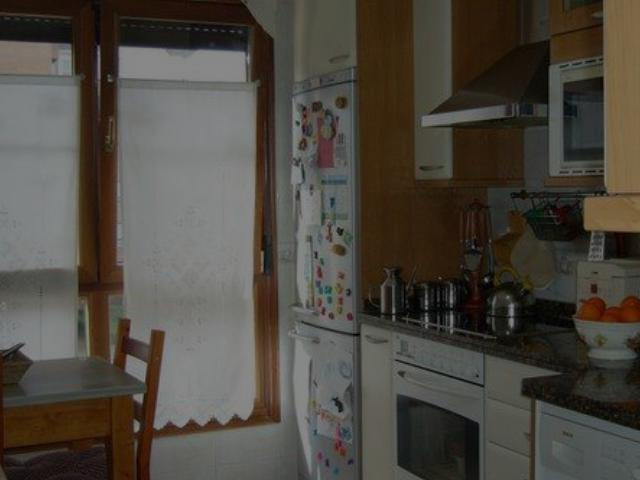Electrodomestico: (289, 89, 364, 480), (391, 337, 489, 480), (535, 402, 640, 480)
